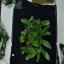leaf: (40, 47, 51, 61), (41, 38, 52, 48), (41, 26, 51, 35), (28, 38, 36, 46), (27, 47, 36, 54), (20, 46, 27, 54), (41, 20, 50, 26), (30, 23, 39, 29), (25, 53, 32, 60), (20, 30, 28, 36), (36, 50, 40, 62), (19, 37, 28, 42), (20, 18, 28, 23), (28, 29, 35, 34), (35, 30, 41, 35), (30, 16, 34, 22), (36, 18, 40, 24)
